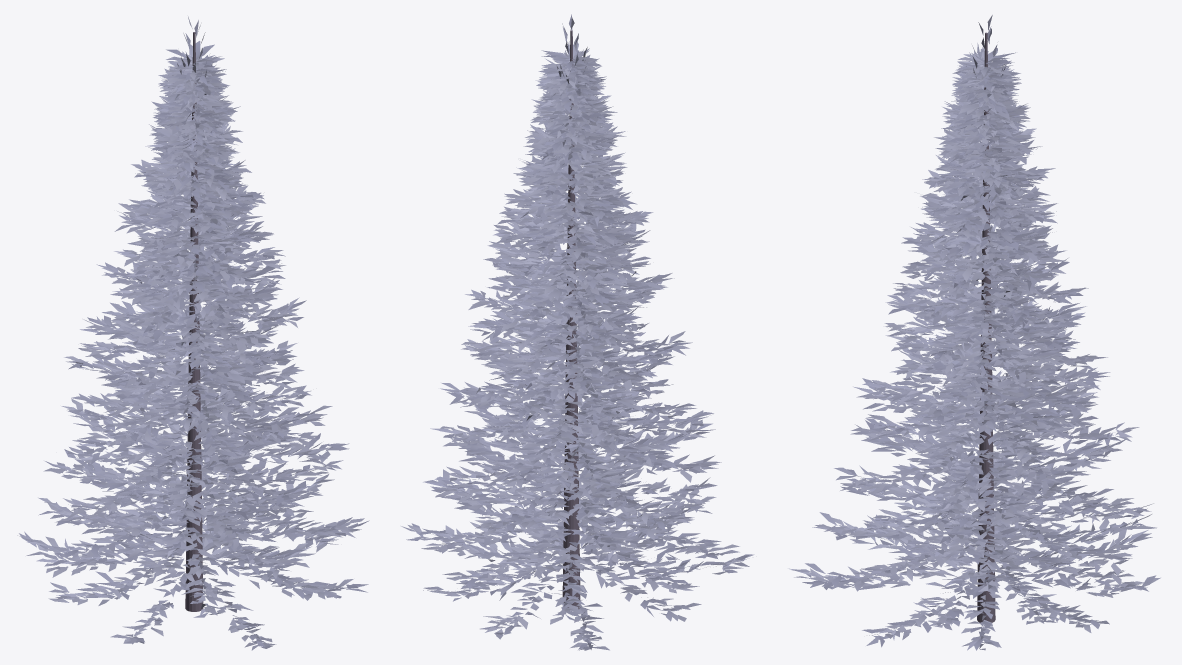
The model's file is watercolour-fir.glb.
3 renders of one model, left to right at view 1: azimuth 30°, elevation 25°; view 2: azimuth 150°, elevation 25°; view 3: azimuth 270°, elevation 25°, orthographic.
Visible parts, largest first — view 1: Watercolour spruce study, Cone; view 2: Watercolour spruce study, Cone; view 3: Watercolour spruce study, Cone.
Part boxes in pixels (left/top/right/bottom): Watercolour spruce study: left=17, top=16, right=369, bottom=650; Cone: left=185, top=32, right=203, bottom=611; Watercolour spruce study: left=401, top=14, right=754, bottom=650; Cone: left=562, top=30, right=580, bottom=609; Watercolour spruce study: left=788, top=15, right=1160, bottom=650; Cone: left=977, top=32, right=995, bottom=622.
Bounding box in the file's own units: 3.38 × 6.49 × 3.71.
